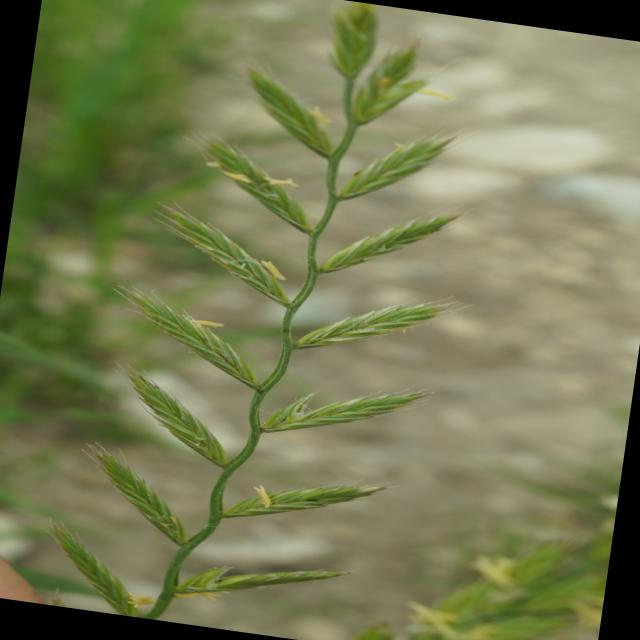Lolium: (37, 0, 507, 640)
